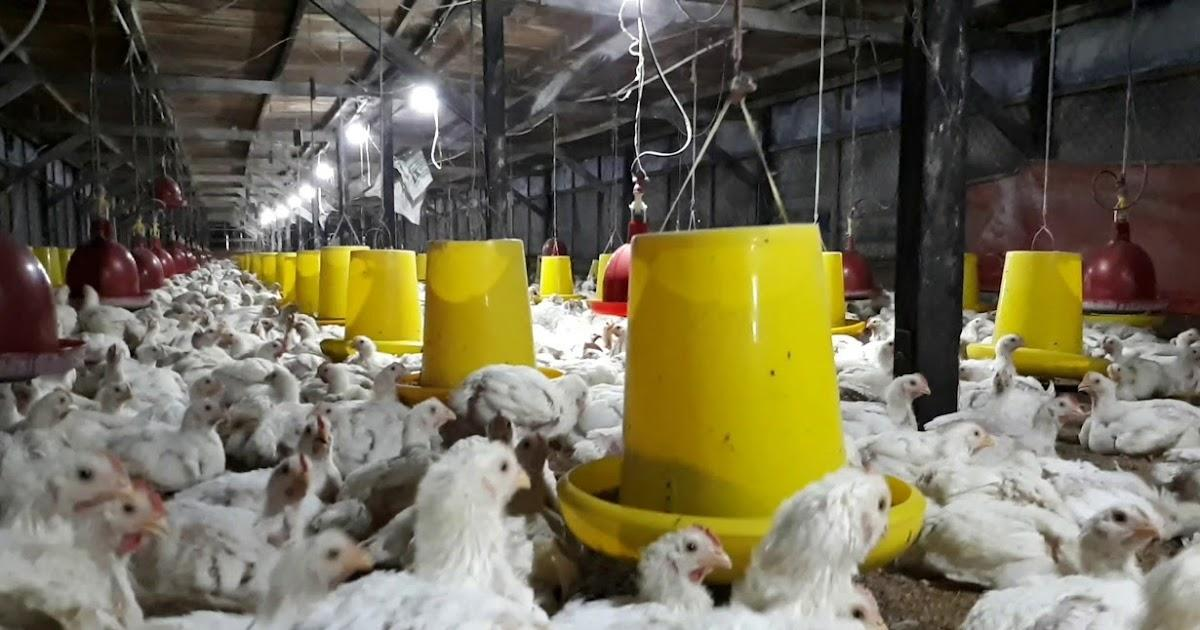chicken: (348, 440, 534, 630), (712, 468, 912, 630), (560, 518, 737, 630), (920, 491, 1076, 568), (1075, 371, 1200, 443), (460, 362, 587, 432), (873, 422, 999, 476)
